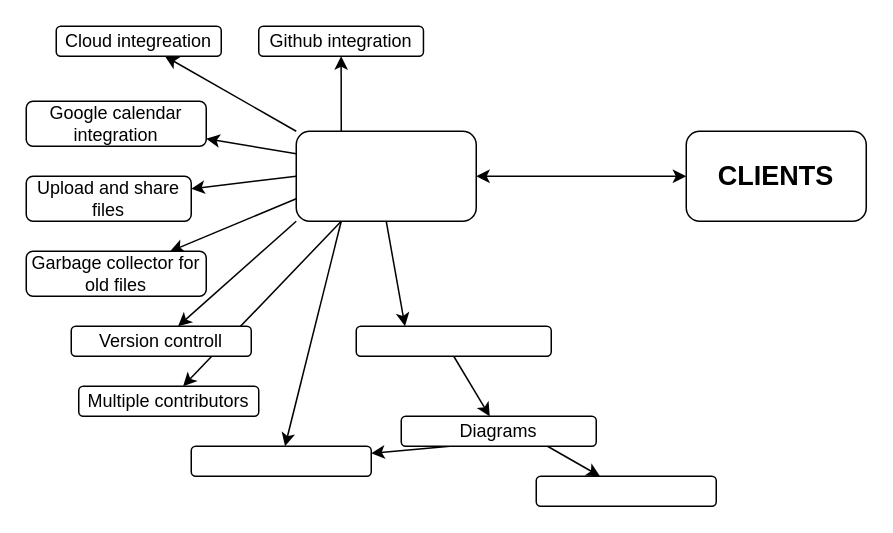
The diagram is 893 pixels wide and 533 high, and some of its shapes have lost their labels. Here are the shapes that lost their labels. From the top down, the centre of each, then its label:
At point (385, 175): "Notes".
At point (453, 340): "Mind maps".
At point (280, 460): "Hand written".
At point (625, 490): "like drawio".
